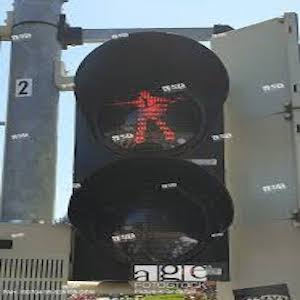red: (116, 87, 185, 143)
